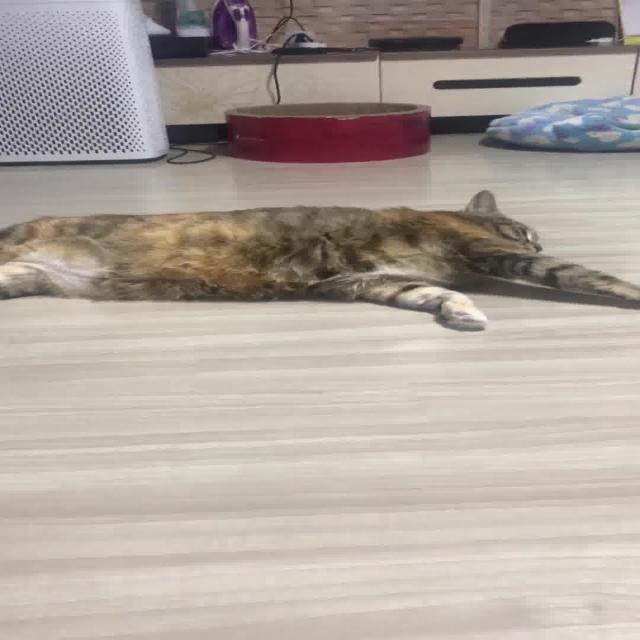cat: (0, 179, 639, 346)
